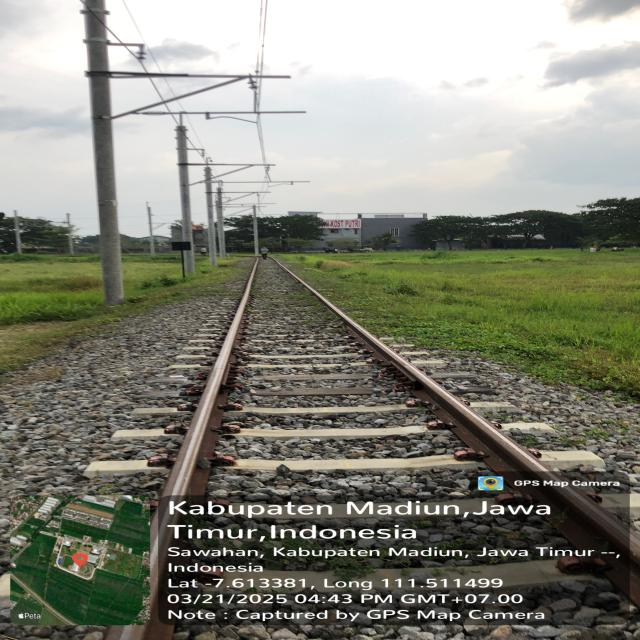rail-detection: (279, 265, 640, 604), (145, 260, 258, 640)
